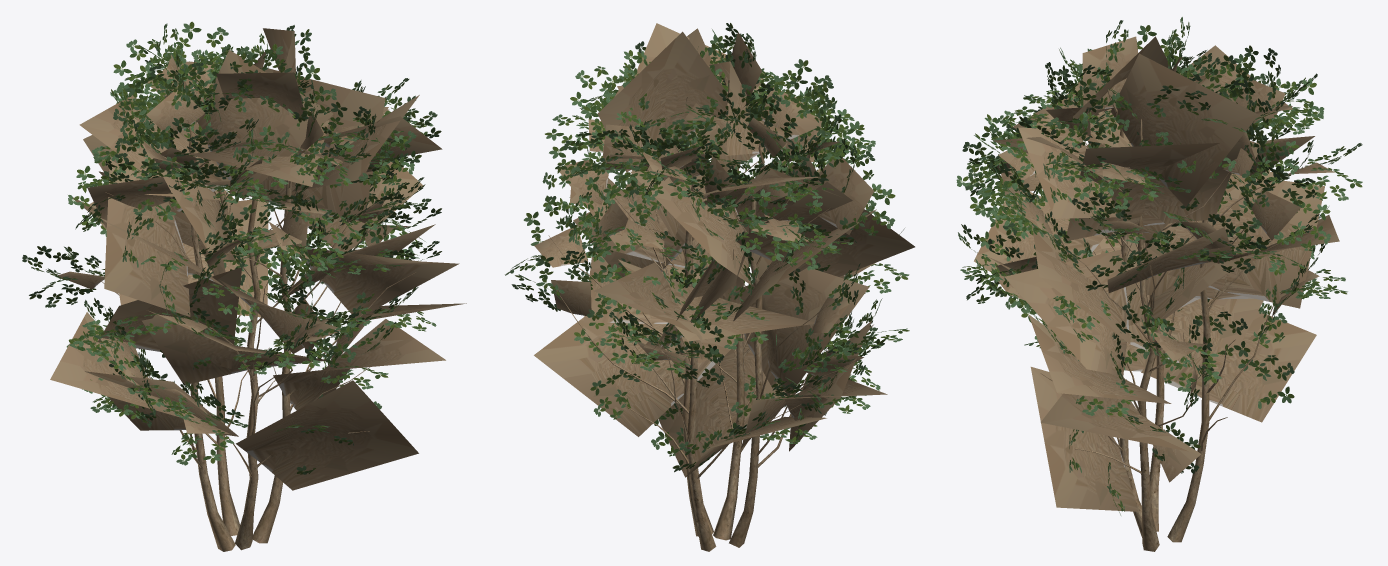
File: Preset_Plant_TsubakiA.fbx
3 views of the same model, side by side, from view 1: azimuth 30°, elevation 25°; view 2: azimuth 150°, elevation 25°; view 3: azimuth 270°, elevation 25° (orthographic). The views are drawn at different scales.
Visible parts, largest first — view 1: Branch, LeafA, LeafB; view 2: Branch, LeafA, LeafB; view 3: Branch, LeafA, LeafB.
Part boxes in pixels (x1,y1,x2,y2): Branch: (50,28,466,490); LeafA: (22,21,441,474); LeafB: (89,120,415,551); Branch: (534,23,914,477); LeafA: (505,23,909,472); LeafB: (548,76,856,551); Branch: (974,36,1339,511); LeafA: (956,17,1362,515); LeafB: (1029,83,1299,551).
Bounding box in the file's own units: 197 × 183 × 248.
Materials: 3 (3 with a texture image).
